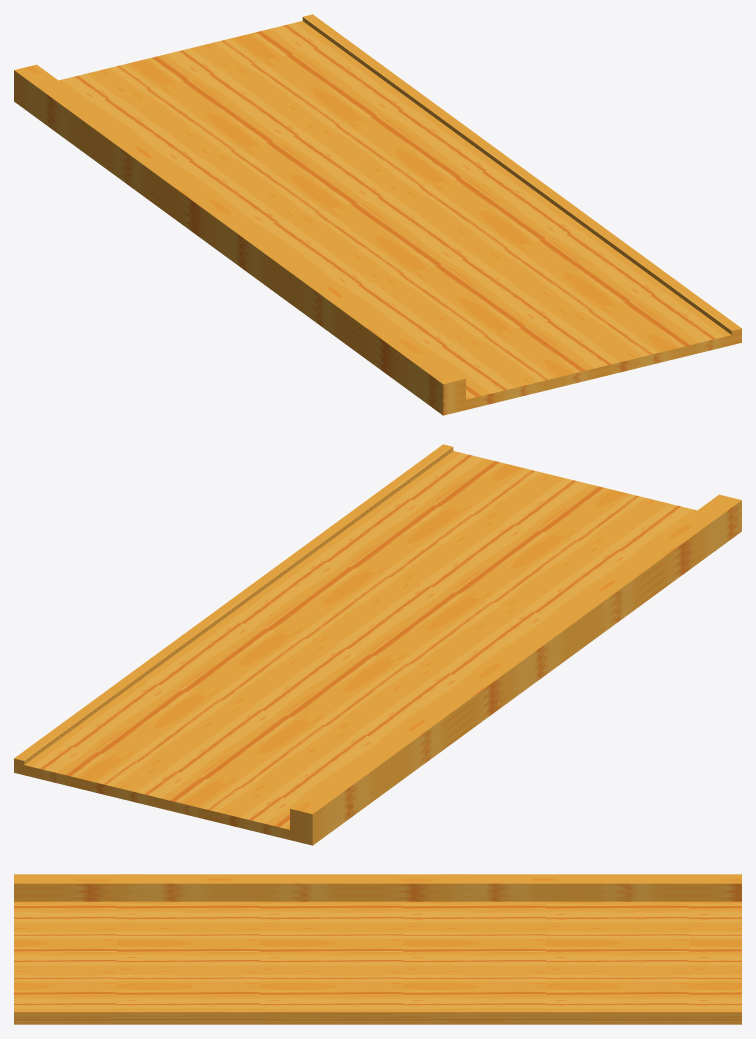
The model's file is tezgahtam.fbx.
3 renders of one model, top to bottom at view 1: azimuth 30°, elevation 25°; view 2: azimuth 150°, elevation 25°; view 3: azimuth 270°, elevation 25°, orthographic. The views are drawn at different scales.
Visible parts, largest first — view 1: Cube.029; view 2: Cube.029; view 3: Cube.029.
Boxes of the visible parts, x1,y1,x2,y2 form: Cube.029: [14, 14, 741, 415]; Cube.029: [14, 444, 741, 845]; Cube.029: [14, 874, 741, 1024].
Bounding box in the file's own units: 432 × 43.4 × 1076.
1 material, 1 textured.
